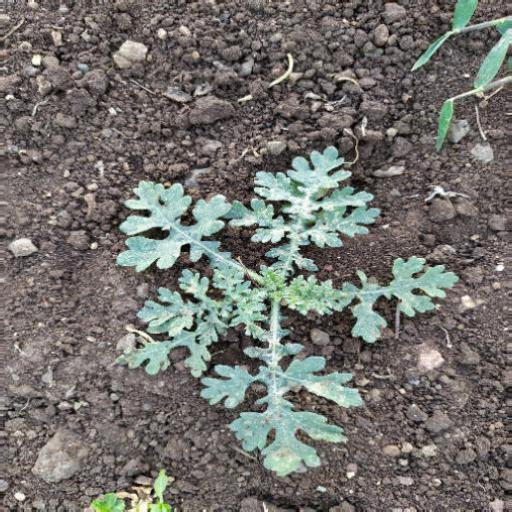weed: (100, 143, 459, 470)
